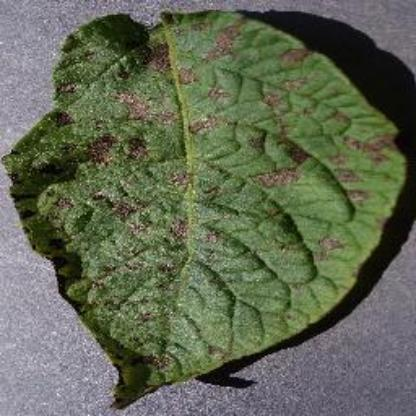Early-Blight: (2, 0, 414, 412)
